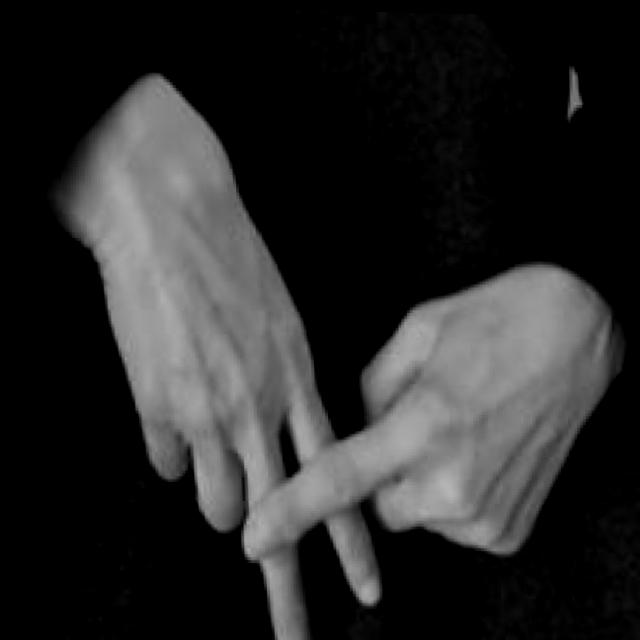A: (97, 140, 640, 640)
